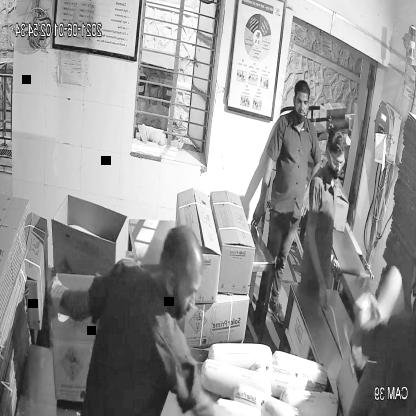goggles: (325, 142, 347, 172)
